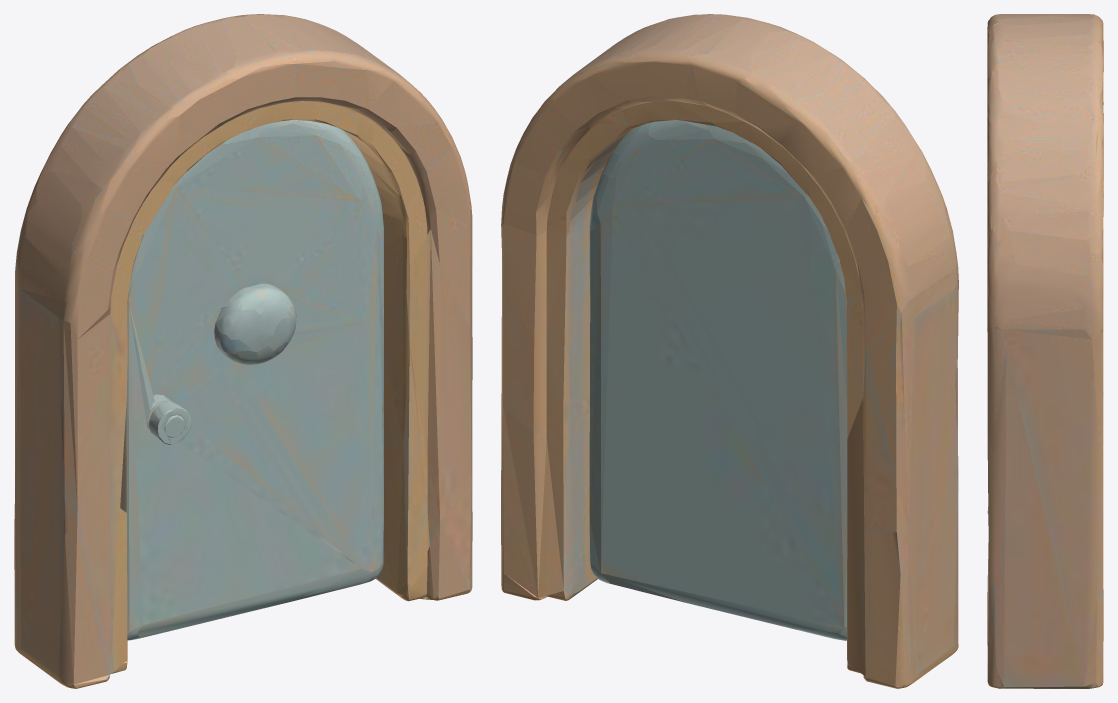
Rendered from door.780b4b6e.glb.
3 views of the same model, side by side, from view 1: azimuth 30°, elevation 25°; view 2: azimuth 150°, elevation 25°; view 3: azimuth 270°, elevation 25° (orthographic). The views are drawn at different scales.
Parts seen in each view (by area): view 1: output_unwrapped; view 2: output_unwrapped; view 3: output_unwrapped.
Part boxes in pixels (x1,y1,x2,y2): output_unwrapped: [14, 14, 472, 688]; output_unwrapped: [501, 14, 958, 688]; output_unwrapped: [987, 14, 1103, 688].
Size of the model in its own units: 1.4 by 1.9 by 0.3575.
Materials: 1 (1 with a texture image).
